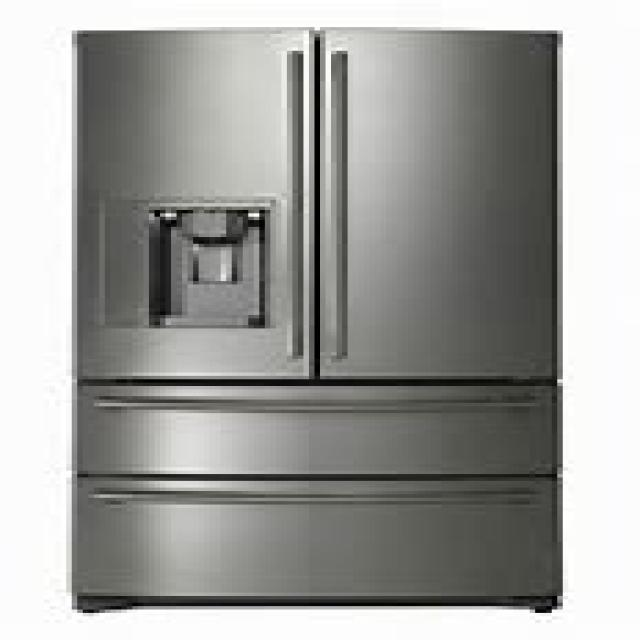fridge: (66, 24, 563, 613)
